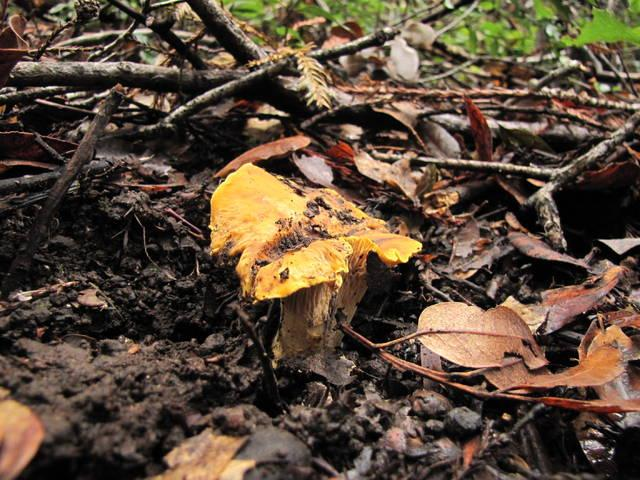edible_mushroom: (207, 161, 422, 364)
